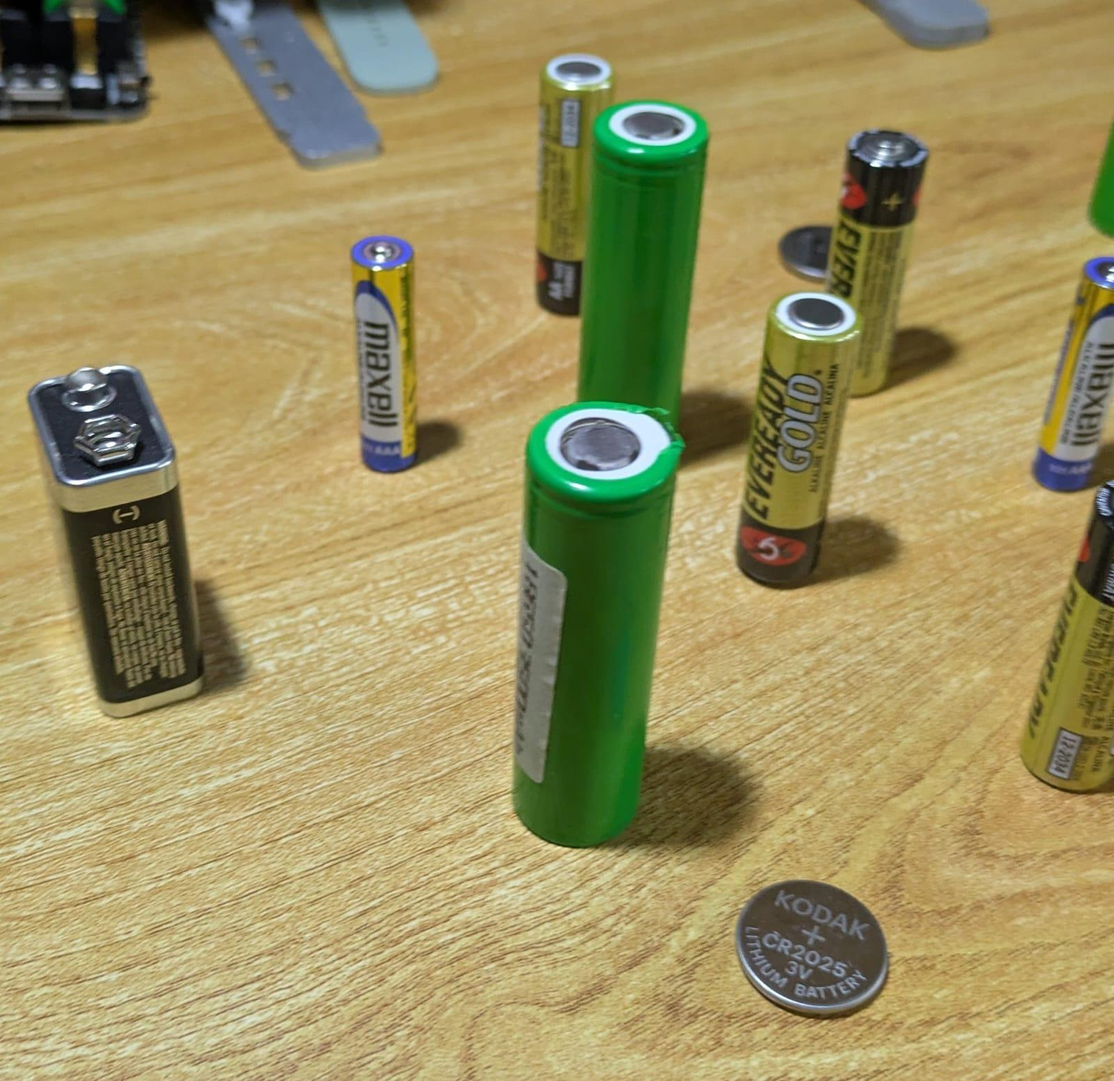9V: (26, 351, 237, 719)
AA: (734, 282, 864, 600), (1010, 472, 1114, 805), (829, 126, 937, 402), (532, 47, 576, 322)
AAA: (1024, 240, 1114, 500), (344, 226, 432, 480)
COIN: (727, 871, 902, 1025), (773, 212, 842, 288)
